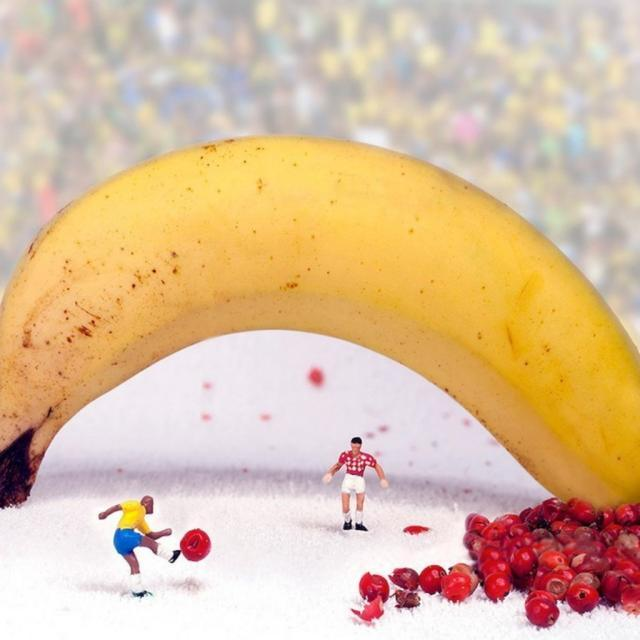Banana: (0, 136, 639, 509)
